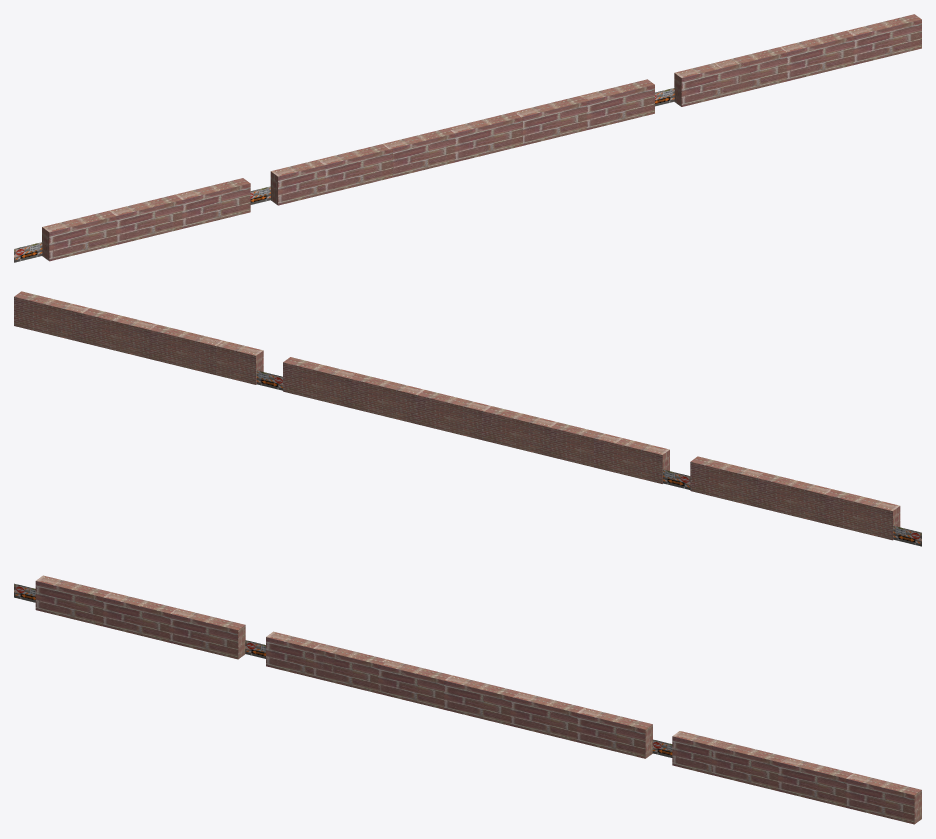
The model's file is wall2.fbx.
3 views of the same model, one above another, from view 1: azimuth 30°, elevation 25°; view 2: azimuth 150°, elevation 25°; view 3: azimuth 330°, elevation 25° (orthographic).
Parts seen in each view (by area): view 1: pCube113, pCube104, pCube111, pCube101, pCube105, pCube107, pCube109, pCube102, pCube112, pCube106, pCube108, pCube110 (+1 smaller); view 2: pCube113, pCube108, pCube101, pCube112, pCube102, pCube105, pCube111, pCube110, pCube103, pCube107, pCube106, pCube104 (+1 smaller); view 3: pCube105, pCube111, pCube101, pCube102, pCube113, pCube112, pCube107, pCube106, pCube108, pCube103, pCube109, pCube110 (+1 smaller).
Part boxes in pixels (box(x1,y1,x2,y2)): pCube113: box(42, 210, 117, 261); pCube104: box(674, 59, 749, 106); pCube111: box(175, 178, 250, 228); pCube101: box(847, 14, 921, 64); pCube105: box(580, 79, 654, 129); pCube107: box(450, 111, 522, 162); pCube109: box(317, 143, 392, 193); pCube102: box(779, 30, 854, 81); pCube112: box(109, 194, 184, 244); pCube106: box(515, 96, 588, 145); pCube108: box(382, 127, 454, 177); pCube110: box(270, 160, 346, 205); pCube113: box(825, 489, 900, 540); pCube108: box(481, 406, 557, 456); pCube101: box(14, 291, 89, 342); pCube112: box(757, 472, 832, 523); pCube102: box(82, 308, 157, 358); pCube105: box(283, 357, 357, 408); pCube111: box(690, 456, 763, 506); pCube110: box(594, 438, 669, 483); pCube103: box(148, 324, 222, 374); pCube107: box(416, 390, 491, 439); pCube106: box(349, 373, 424, 423); pCube104: box(187, 334, 263, 384); pCube105: box(576, 707, 652, 758); pCube111: box(169, 608, 245, 659); pCube101: box(845, 773, 921, 824); pCube102: box(778, 757, 852, 807); pCube113: box(35, 575, 110, 626); pCube112: box(103, 592, 177, 642); pCube107: box(444, 675, 519, 725); pCube106: box(510, 692, 583, 741); pCube108: box(378, 659, 450, 709); pCube103: box(712, 741, 787, 790); pCube109: box(313, 643, 384, 694); pCube110: box(266, 631, 341, 681).
Bounding box in the file's own units: 356 × 10.93 × 5.07.
2 materials, 2 textured.
